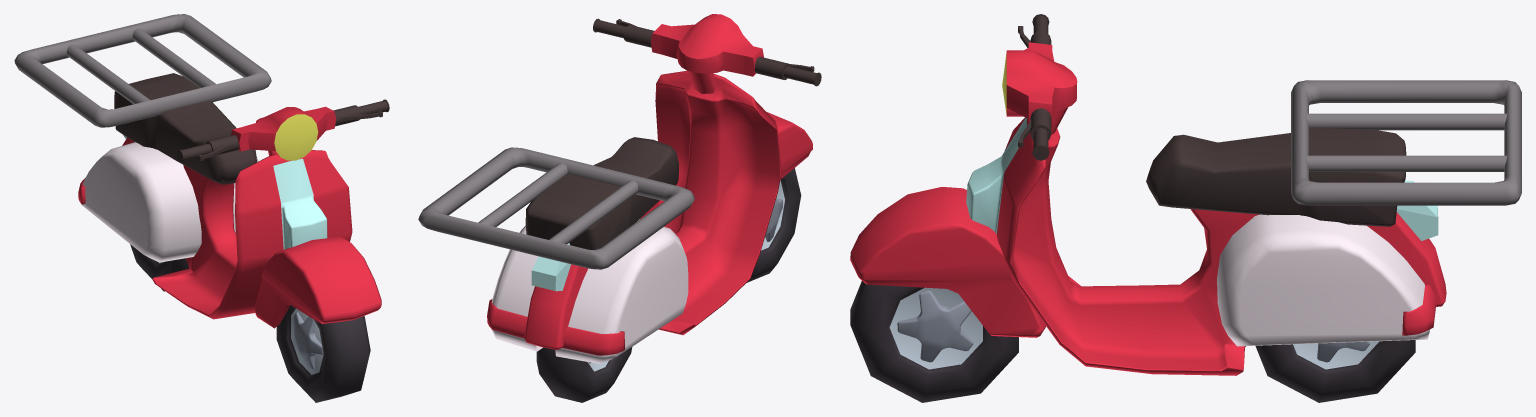
Rendered from vespa.fbx.
3 views of the same model, side by side, from view 1: azimuth 30°, elevation 25°; view 2: azimuth 150°, elevation 25°; view 3: azimuth 270°, elevation 25° (orthographic). The views are drawn at different scales.
Parts seen in each view (by area): view 1: vespa, simplePipeadfe, mirrored_x_5; view 2: vespa, simplePipeadfe, mirrored_x_5; view 3: vespa, simplePipeadfe, mirrored_x_5.
Part boxes in pixels (box(x1,y1,x2,y2)): vespa: box(78, 73, 389, 402); simplePipeadfe: box(14, 14, 271, 127); mirrored_x_5: box(176, 135, 239, 162); vespa: box(487, 14, 812, 402); simplePipeadfe: box(418, 147, 694, 269); mirrored_x_5: box(754, 56, 821, 86); vespa: box(850, 42, 1446, 402); simplePipeadfe: box(1291, 80, 1521, 205); mirrored_x_5: box(1018, 14, 1051, 47).
Size of the model in its own units: 9.22 by 11.17 by 19.92.
